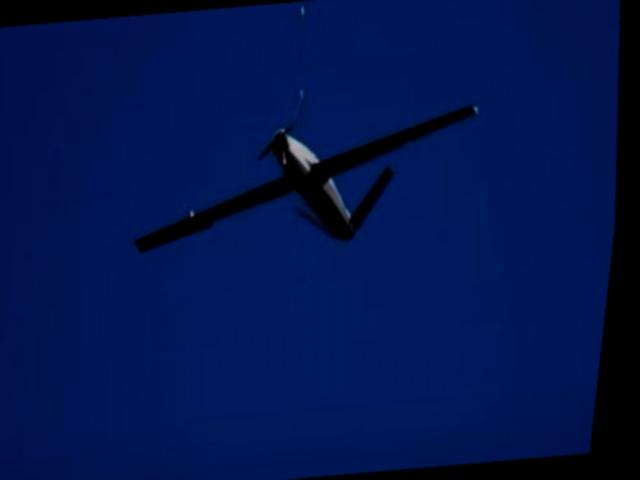iha: (126, 92, 509, 272)
